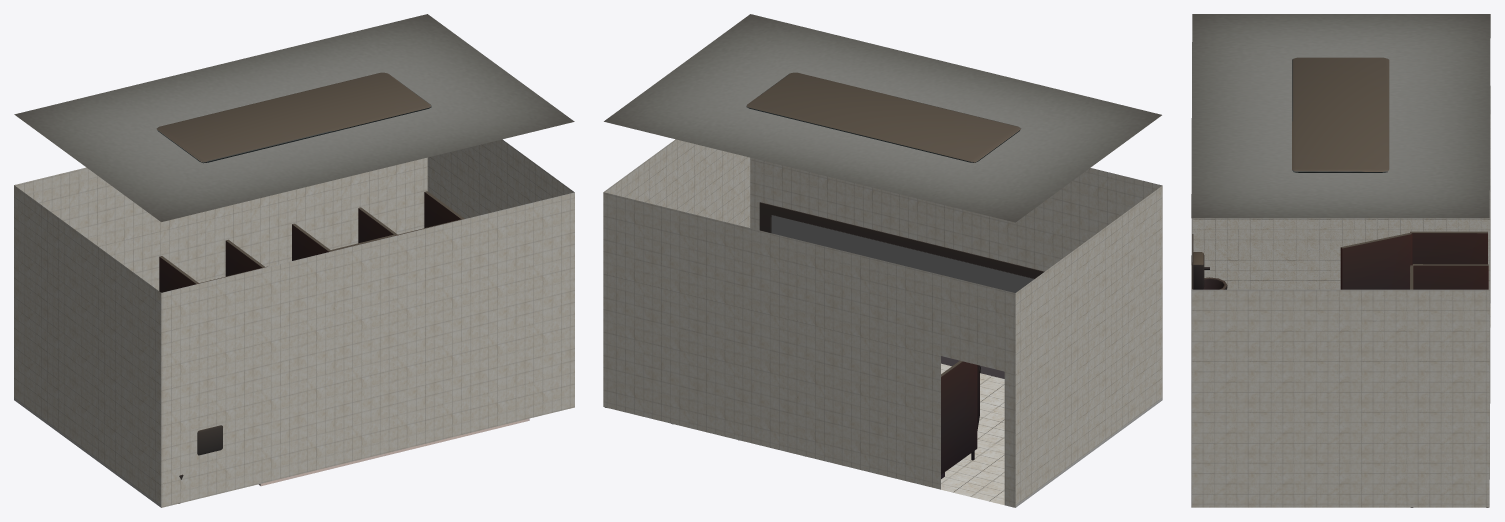
File: banio.fbx
3 renders of one model, left to right at view 1: azimuth 30°, elevation 25°; view 2: azimuth 150°, elevation 25°; view 3: azimuth 270°, elevation 25°, orthographic.
Parts seen in each view (by area): view 1: Cuarto_banio, techo, Lampara, banios, Lavamanos, Papel_manos; view 2: Cuarto_banio, techo, Lampara, Espejo, puerta_bano010, Marco_espejo; view 3: Cuarto_banio, techo, Lampara, puerta_bano009, puerta_bano010, banios, Papel_manos.
Boxes of the visible parts, x1,y1,x2,y2 form: Cuarto_banio: (14, 139, 574, 507); techo: (14, 14, 574, 221); Lampara: (156, 72, 431, 163); banios: (159, 191, 463, 292); Lavamanos: (258, 418, 529, 486); Papel_manos: (197, 425, 222, 455); Cuarto_banio: (603, 139, 1162, 507); techo: (604, 14, 1161, 222); Lampara: (746, 72, 1020, 162); Espejo: (771, 215, 1033, 292); puerta_bano010: (941, 360, 977, 474); Marco_espejo: (759, 202, 1044, 279); Cuarto_banio: (1191, 86, 1490, 507); techo: (1191, 14, 1490, 218); Lampara: (1292, 57, 1389, 172); puerta_bano009: (1340, 233, 1412, 289); puerta_bano010: (1410, 231, 1487, 264); banios: (1411, 264, 1488, 507); Papel_manos: (1191, 252, 1209, 289).
Size of the model in its own units: 642 by 397 by 432.
4 materials, 3 textured.
